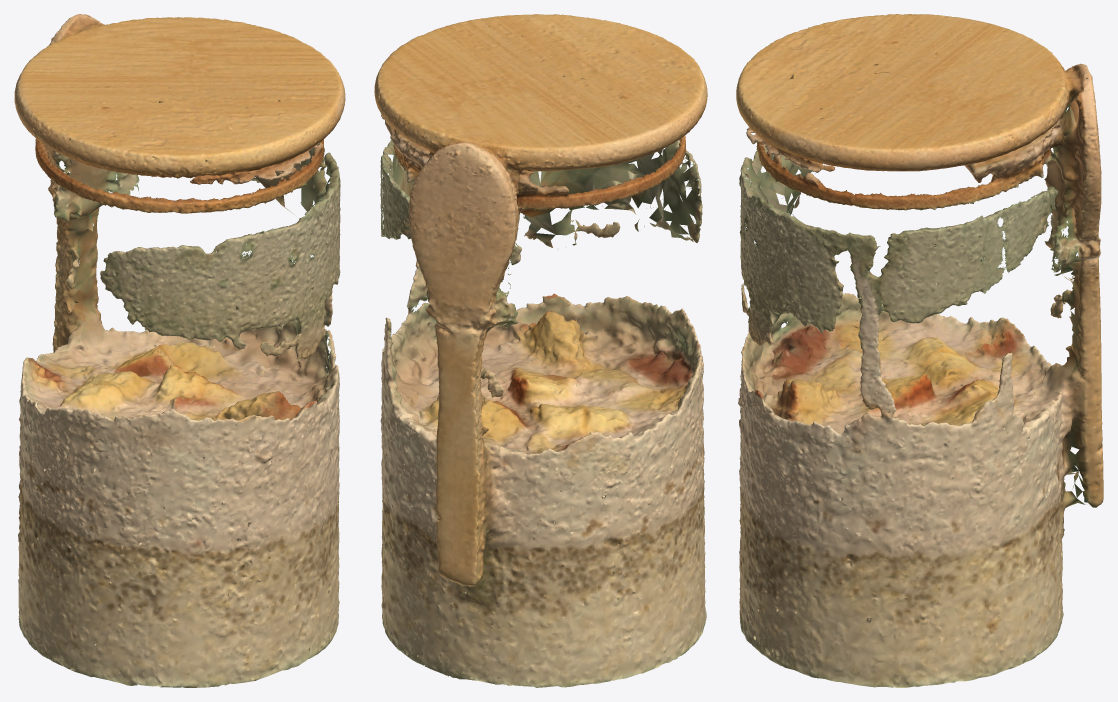
The model's file is meshroom_jar_m.glb.
The picture shows the model from 3 angles, left to right: view 1: azimuth 30°, elevation 25°; view 2: azimuth 150°, elevation 25°; view 3: azimuth 270°, elevation 25°; orthographic projection.
Size of the model in its own units: 0.1431 by 0.26 by 0.1576.
1 material, 1 textured.
